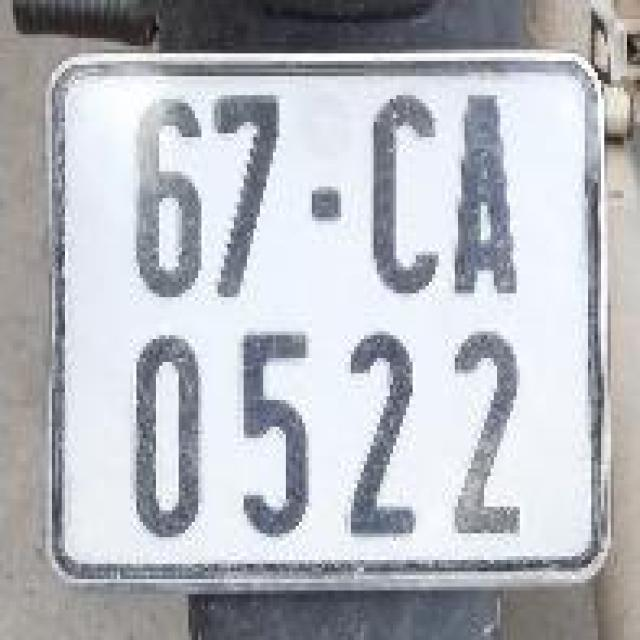0: (116, 328, 210, 548)
2: (430, 316, 541, 556), (323, 301, 424, 552)
5: (226, 303, 330, 550)
6: (124, 94, 211, 310)
7: (202, 86, 292, 303)
A: (448, 86, 536, 306)
C: (351, 82, 451, 303)
